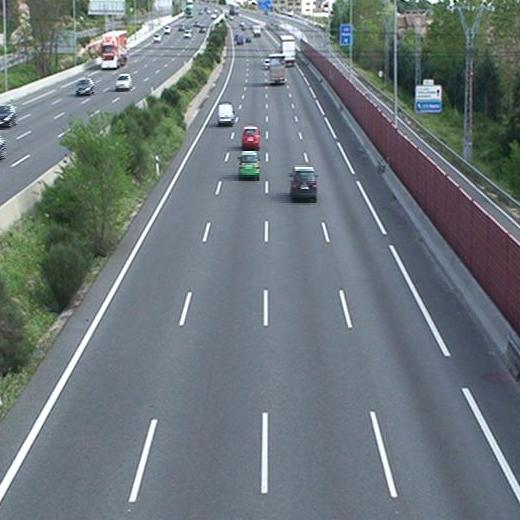car: (287, 168, 318, 200), (237, 150, 259, 177), (242, 126, 262, 150)
small-truck: (269, 53, 287, 86)
truck: (279, 36, 295, 61)
van: (216, 102, 234, 124)
